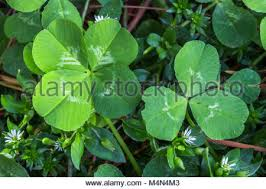4-clover: (32, 19, 142, 129)
